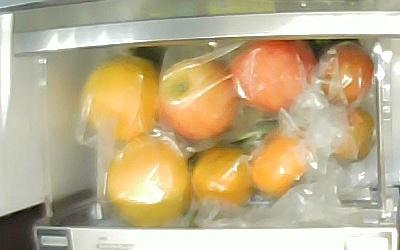apple_vinyl: (157, 59, 236, 141), (230, 40, 315, 113)
grapefruit_vinyl: (108, 135, 190, 228), (82, 57, 158, 139)
persimmon_vinyl: (247, 127, 307, 196), (192, 146, 253, 205)
prune_vinyl: (322, 44, 374, 106), (332, 108, 375, 163)
